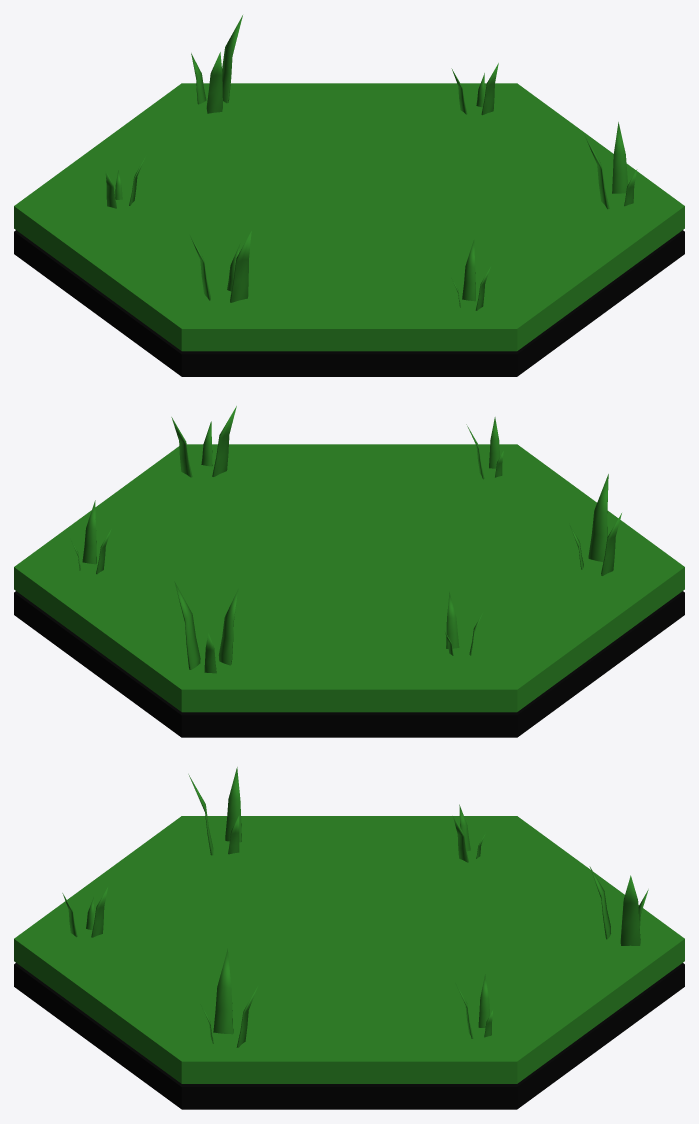
The picture shows the model from 3 angles, top to bottom: view 1: azimuth 30°, elevation 25°; view 2: azimuth 150°, elevation 25°; view 3: azimuth 270°, elevation 25°; orthographic projection.
Visible parts, largest first — view 1: nodeBase; view 2: nodeBase; view 3: nodeBase.
Part boxes in pixels (bbox=[...]): nodeBase: bbox=[14, 15, 684, 376]; nodeBase: bbox=[14, 406, 684, 737]; nodeBase: bbox=[14, 767, 684, 1109].
Size of the model in its own units: 1641 by 401 by 1895.
1 material, 1 textured.
